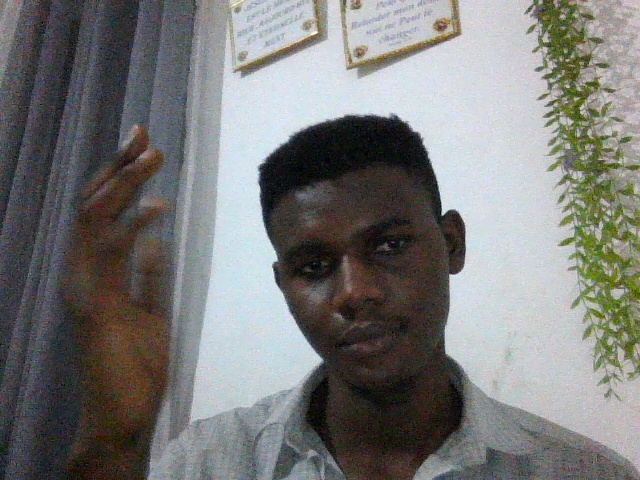hand: (49, 115, 181, 443)
